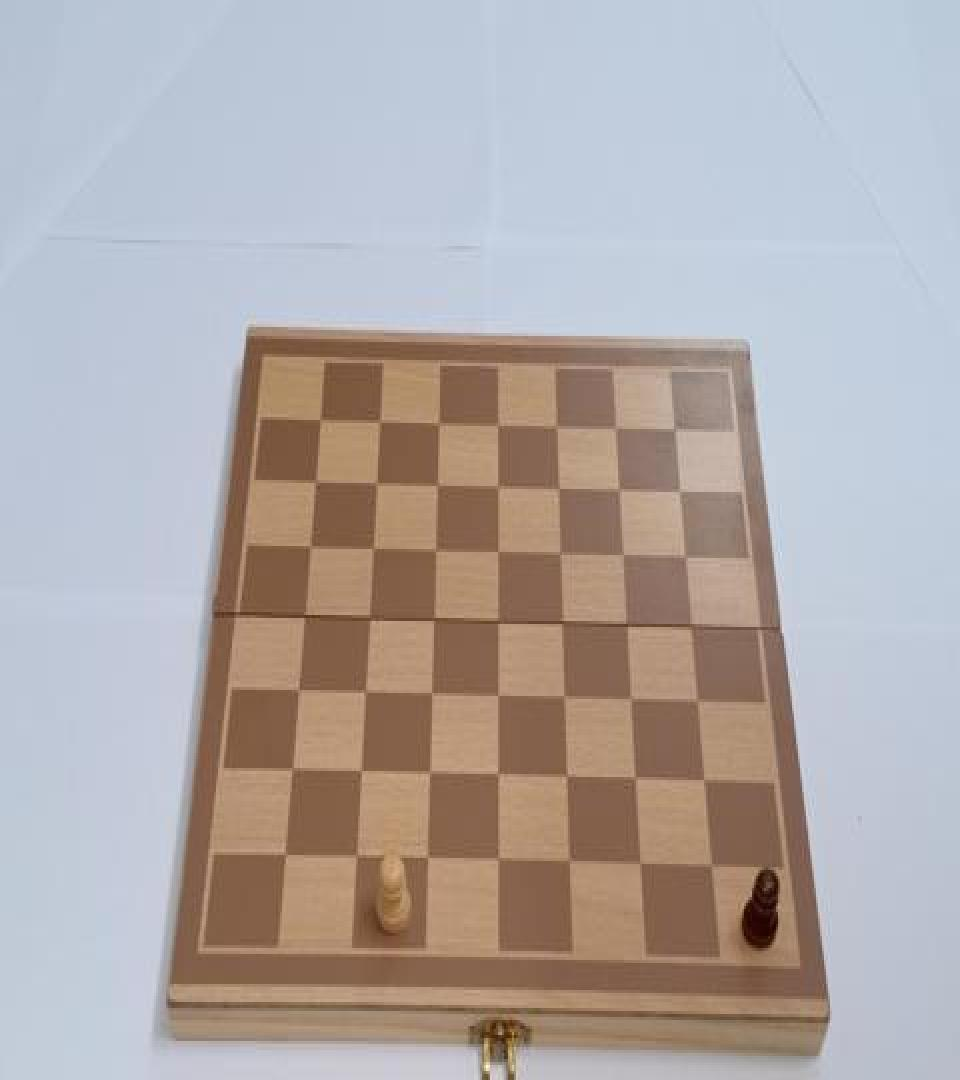xcorner: (430, 412, 448, 440), (420, 760, 438, 788), (606, 418, 624, 446), (312, 408, 330, 435), (307, 470, 325, 497), (301, 534, 319, 561), (295, 604, 313, 631), (289, 678, 307, 705), (282, 756, 300, 783), (368, 471, 386, 498), (364, 537, 382, 564), (360, 606, 378, 633), (351, 759, 369, 786), (347, 843, 365, 870), (428, 474, 446, 501), (426, 538, 444, 565), (422, 681, 440, 708), (418, 844, 436, 871), (489, 414, 507, 441), (489, 540, 507, 567), (489, 610, 507, 637), (489, 684, 507, 711), (489, 762, 507, 789), (489, 846, 507, 873), (547, 415, 565, 442), (549, 477, 567, 504), (551, 543, 569, 570), (553, 612, 571, 639), (559, 849, 577, 876), (609, 480, 627, 507), (613, 545, 631, 572), (621, 687, 639, 714), (625, 766, 643, 793), (630, 851, 648, 878), (664, 420, 682, 447), (669, 481, 687, 508), (675, 546, 693, 573), (680, 617, 698, 644), (687, 690, 705, 717), (693, 768, 711, 795), (700, 852, 718, 879), (275, 842, 293, 868), (371, 410, 389, 436), (356, 680, 374, 706), (424, 608, 442, 634), (489, 476, 507, 502), (555, 686, 573, 712), (557, 764, 575, 790), (617, 614, 635, 640)
